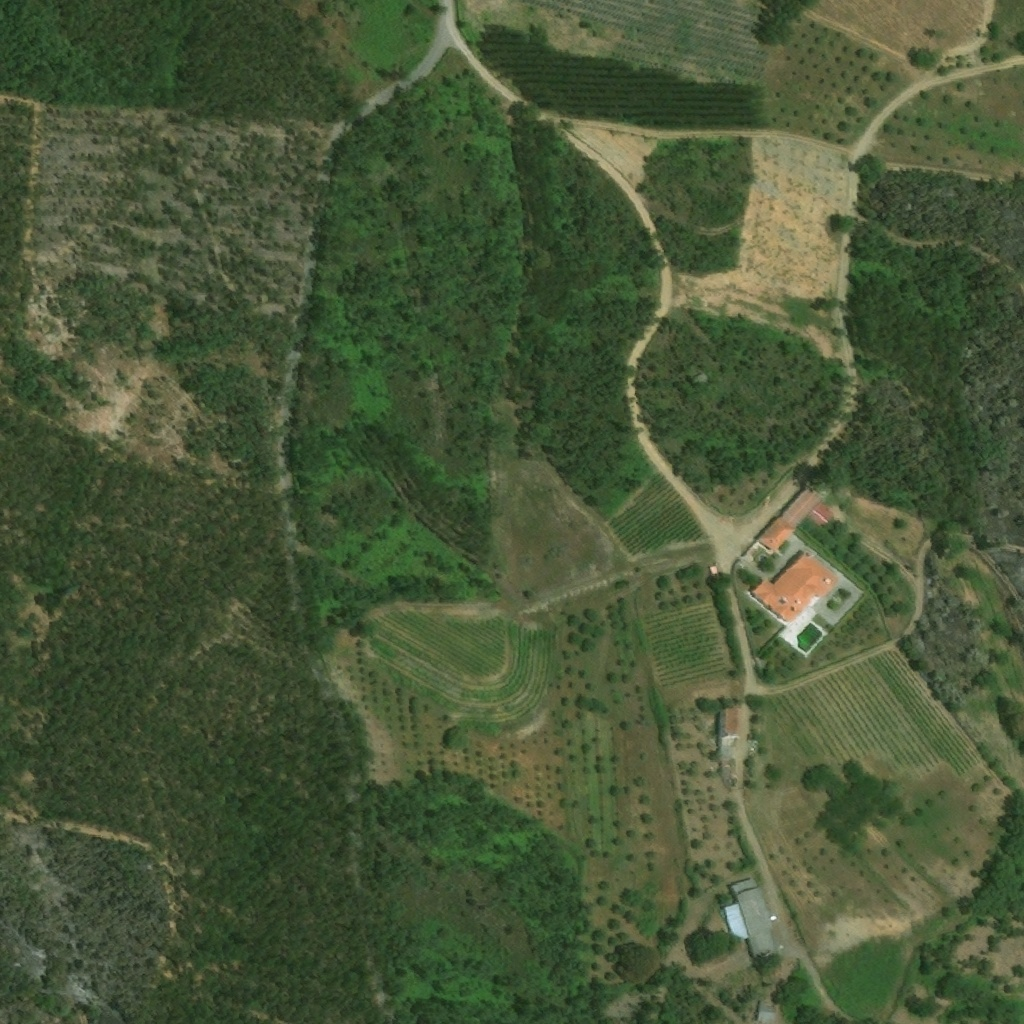0 no-damage: (749, 549, 839, 621), (721, 877, 779, 965), (757, 487, 825, 550), (721, 706, 747, 740), (758, 1005, 775, 1023)
